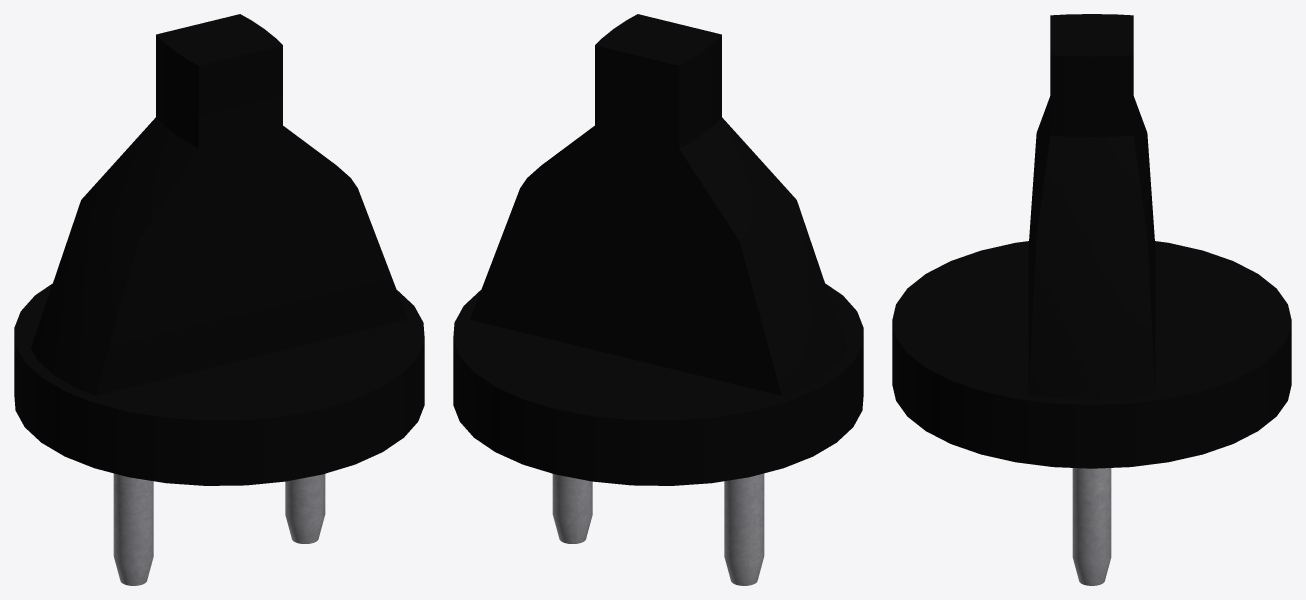
File: Elec_plug.fbx
The picture shows the model from 3 angles, left to right: view 1: azimuth 30°, elevation 25°; view 2: azimuth 150°, elevation 25°; view 3: azimuth 270°, elevation 25°; orthographic projection. The views are drawn at different scales.
Visible parts, largest first — view 1: Cylinder; view 2: Cylinder; view 3: Cylinder.
Part boxes in pixels (left/top/right/bottom): Cylinder: left=14, top=14, right=424, bottom=585; Cylinder: left=453, top=14, right=863, bottom=585; Cylinder: left=892, top=14, right=1291, bottom=585.
Bounding box in the file's own units: 200 × 279 × 200.
2 materials, 1 textured.
